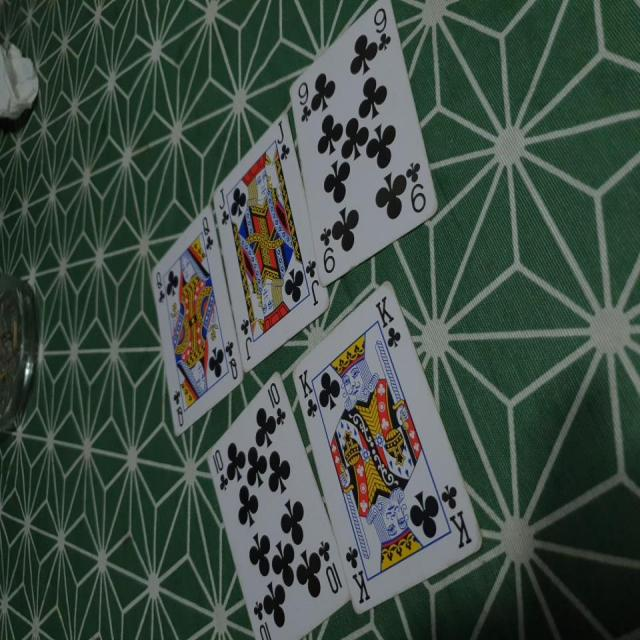10 Trefoils: (205, 371, 351, 640)
9 Trefoils: (282, 1, 439, 286)
J Trefoils: (213, 110, 329, 375)
K Trefoils: (290, 281, 486, 614)
Q Trefoils: (152, 202, 245, 434)
